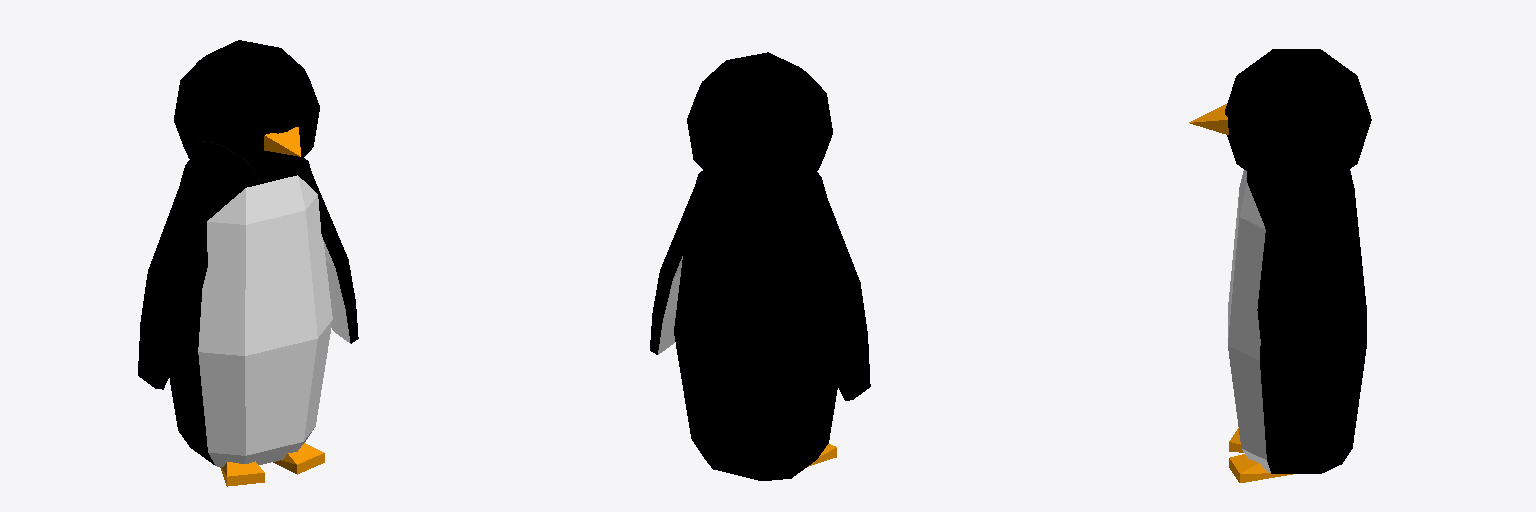
3 views of the same model, side by side, from view 1: azimuth 30°, elevation 25°; view 2: azimuth 150°, elevation 25°; view 3: azimuth 270°, elevation 25° (orthographic).
Visible parts, largest first — view 1: Body, Head, Left_Wing, Right_Wing, Left_Foot, Right_Foot, Beak; view 2: Body, Head, Left_Wing, Right_Wing; view 3: Body, Head, Right_Wing, Left_Foot, Beak.
Boxes of the visible parts, x1,y1,x2,y2 form: Body: [169, 158, 332, 466]; Head: [174, 40, 319, 182]; Left_Wing: [138, 187, 208, 389]; Right_Wing: [312, 174, 358, 343]; Left_Foot: [273, 443, 324, 474]; Right_Foot: [220, 461, 264, 486]; Beak: [264, 127, 300, 156]; Body: [674, 170, 837, 480]; Head: [687, 52, 832, 194]; Left_Wing: [798, 199, 870, 400]; Right_Wing: [650, 187, 694, 354]; Body: [1228, 170, 1366, 473]; Head: [1225, 49, 1371, 187]; Right_Wing: [1257, 205, 1333, 412]; Left_Foot: [1229, 454, 1292, 482]; Beak: [1189, 104, 1228, 134].
Size of the model in its own units: 0.7106 by 1.36 by 0.5564.
7 materials, 1 textured.